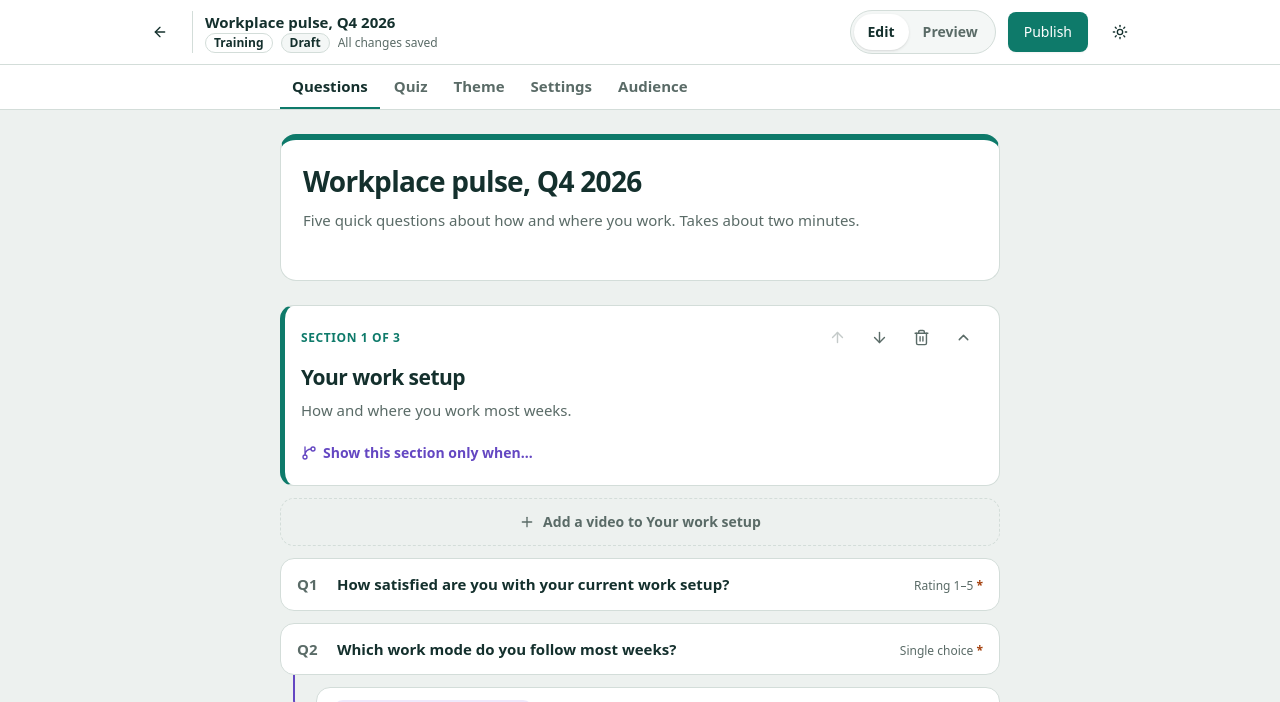
Test case: video sections in the builder › warns when the link cannot be loaded from here
The image size is (1280, 702).
Expected: the field named "Survey title" is shown, x1=303 y1=160 x2=977 y2=203
Step 1. Click the button "Add a video to Your work setup" → [640, 522], box x1=280 y1=498 x2=1000 y2=546
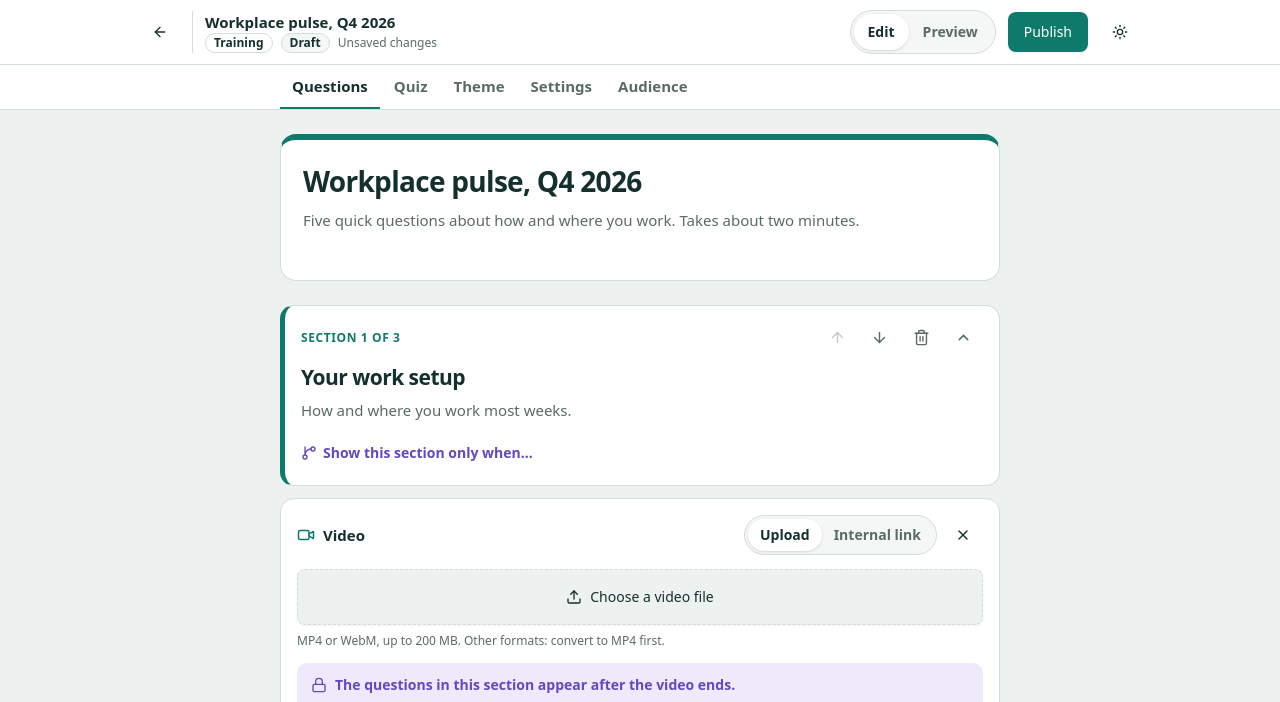
Step 2. Click the button "Internal link" → [877, 535], box x1=822 y1=519 x2=933 y2=551
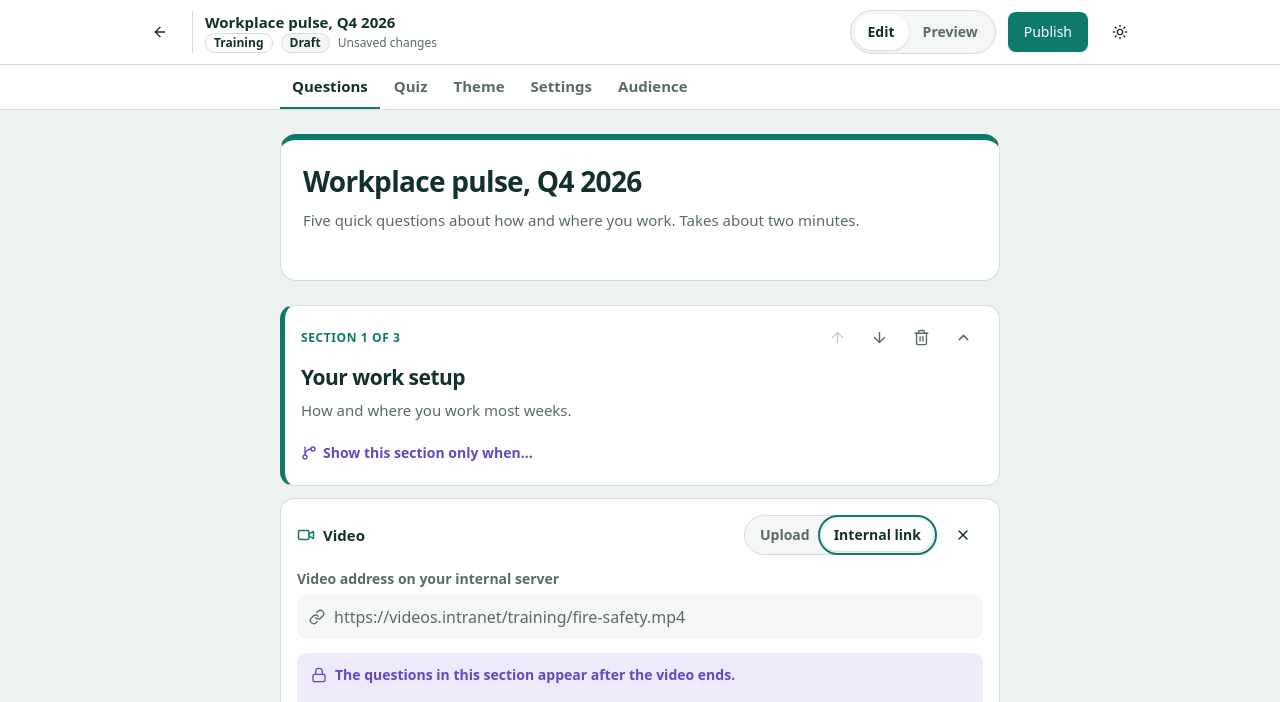
Step 3. Type "https://videos.intranet/missing.mp4" into the field labelled "Video address on your internal server" → [640, 617], box x1=297 y1=595 x2=983 y2=639
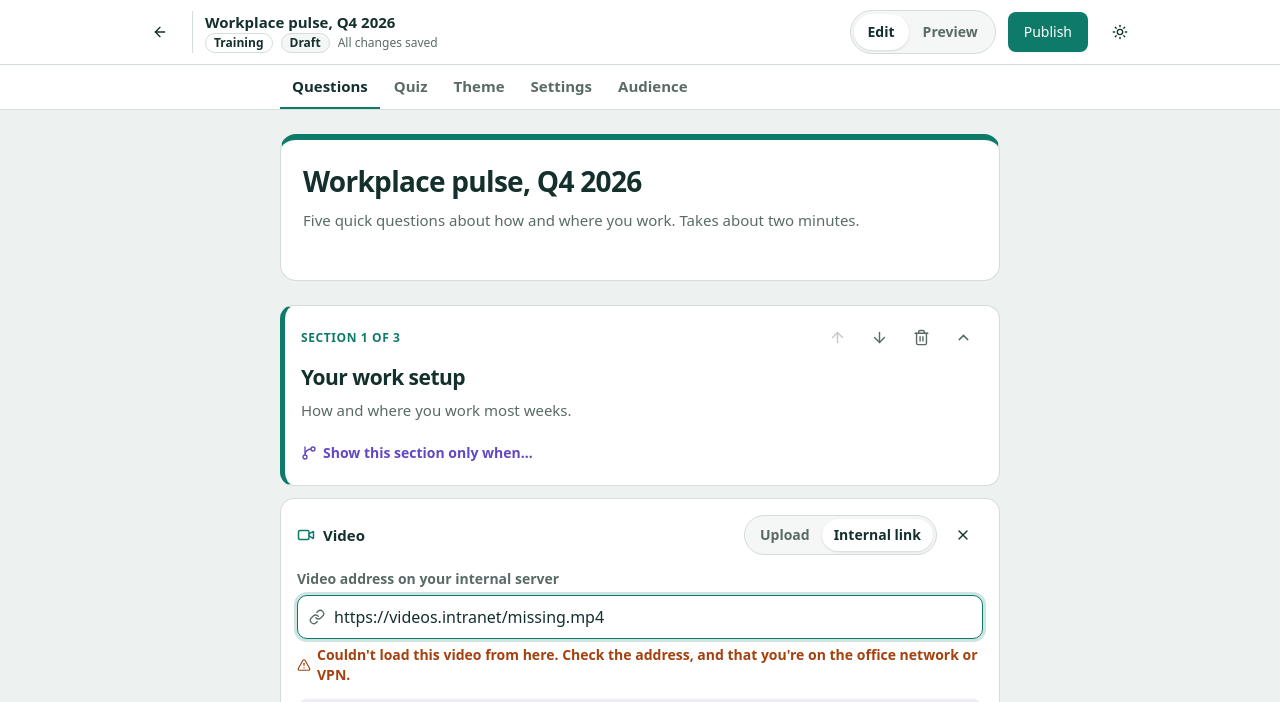
Expected: the text "Couldn't load this video from here" is shown, x1=317 y1=645 x2=978 y2=684
